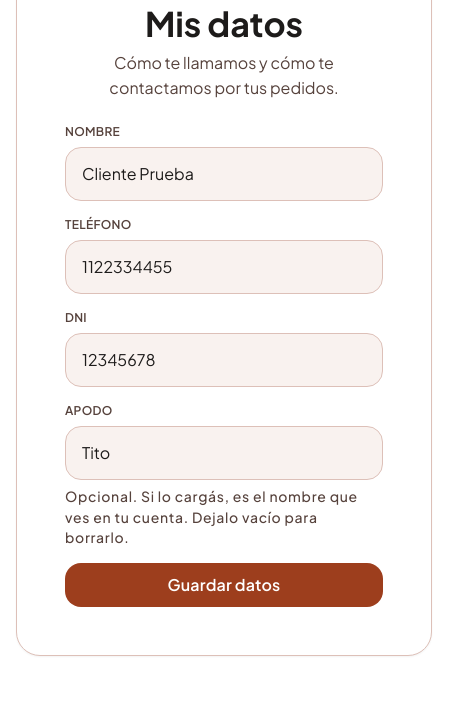
Datos — edición del perfil › los avisos se ANUNCIAN: el de éxito con role=status, el error con role=alert
(page scrolled)
Click the button "Guardar datos" at (224, 585), box [65,563,383,607]
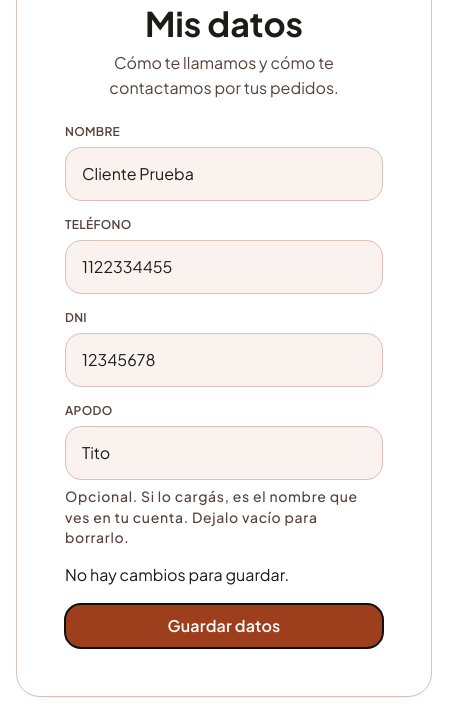
Now the message reads "No hay cambios para guardar.", box [65,564,289,585]
